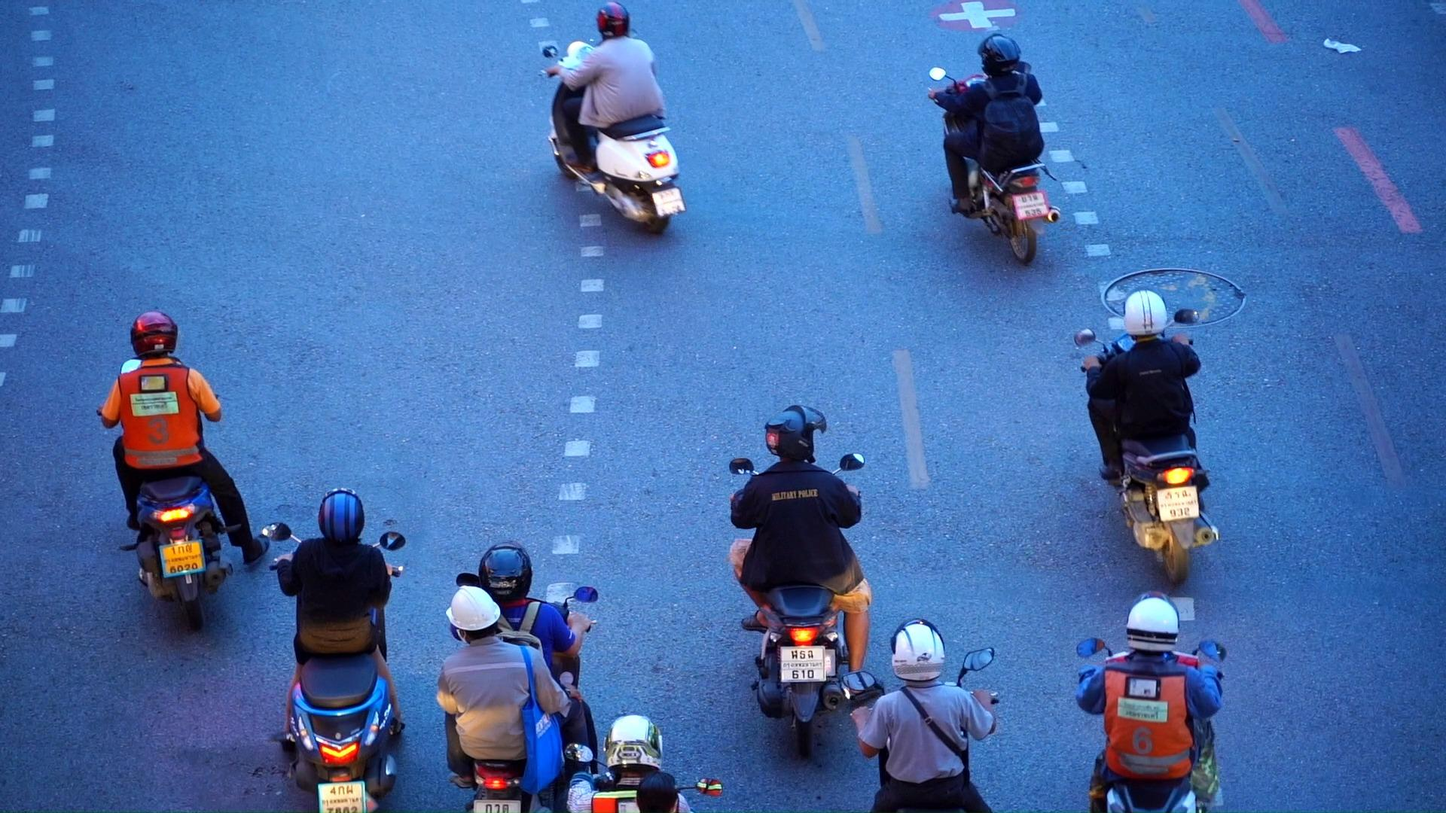driver: (728, 404, 884, 758), (97, 312, 270, 629), (262, 487, 405, 813), (437, 540, 601, 813), (1073, 286, 1220, 586), (540, 1, 686, 237), (1075, 590, 1228, 813), (842, 617, 999, 813), (929, 33, 1060, 264), (565, 714, 725, 813)
helmet: (764, 405, 827, 464), (890, 617, 946, 682), (1126, 590, 1180, 655), (478, 541, 534, 603), (603, 715, 662, 773), (445, 586, 500, 645), (318, 488, 365, 543), (1122, 285, 1167, 341), (131, 311, 178, 357), (977, 33, 1022, 80), (596, 1, 630, 38)
no-helmet: (636, 771, 680, 813)
